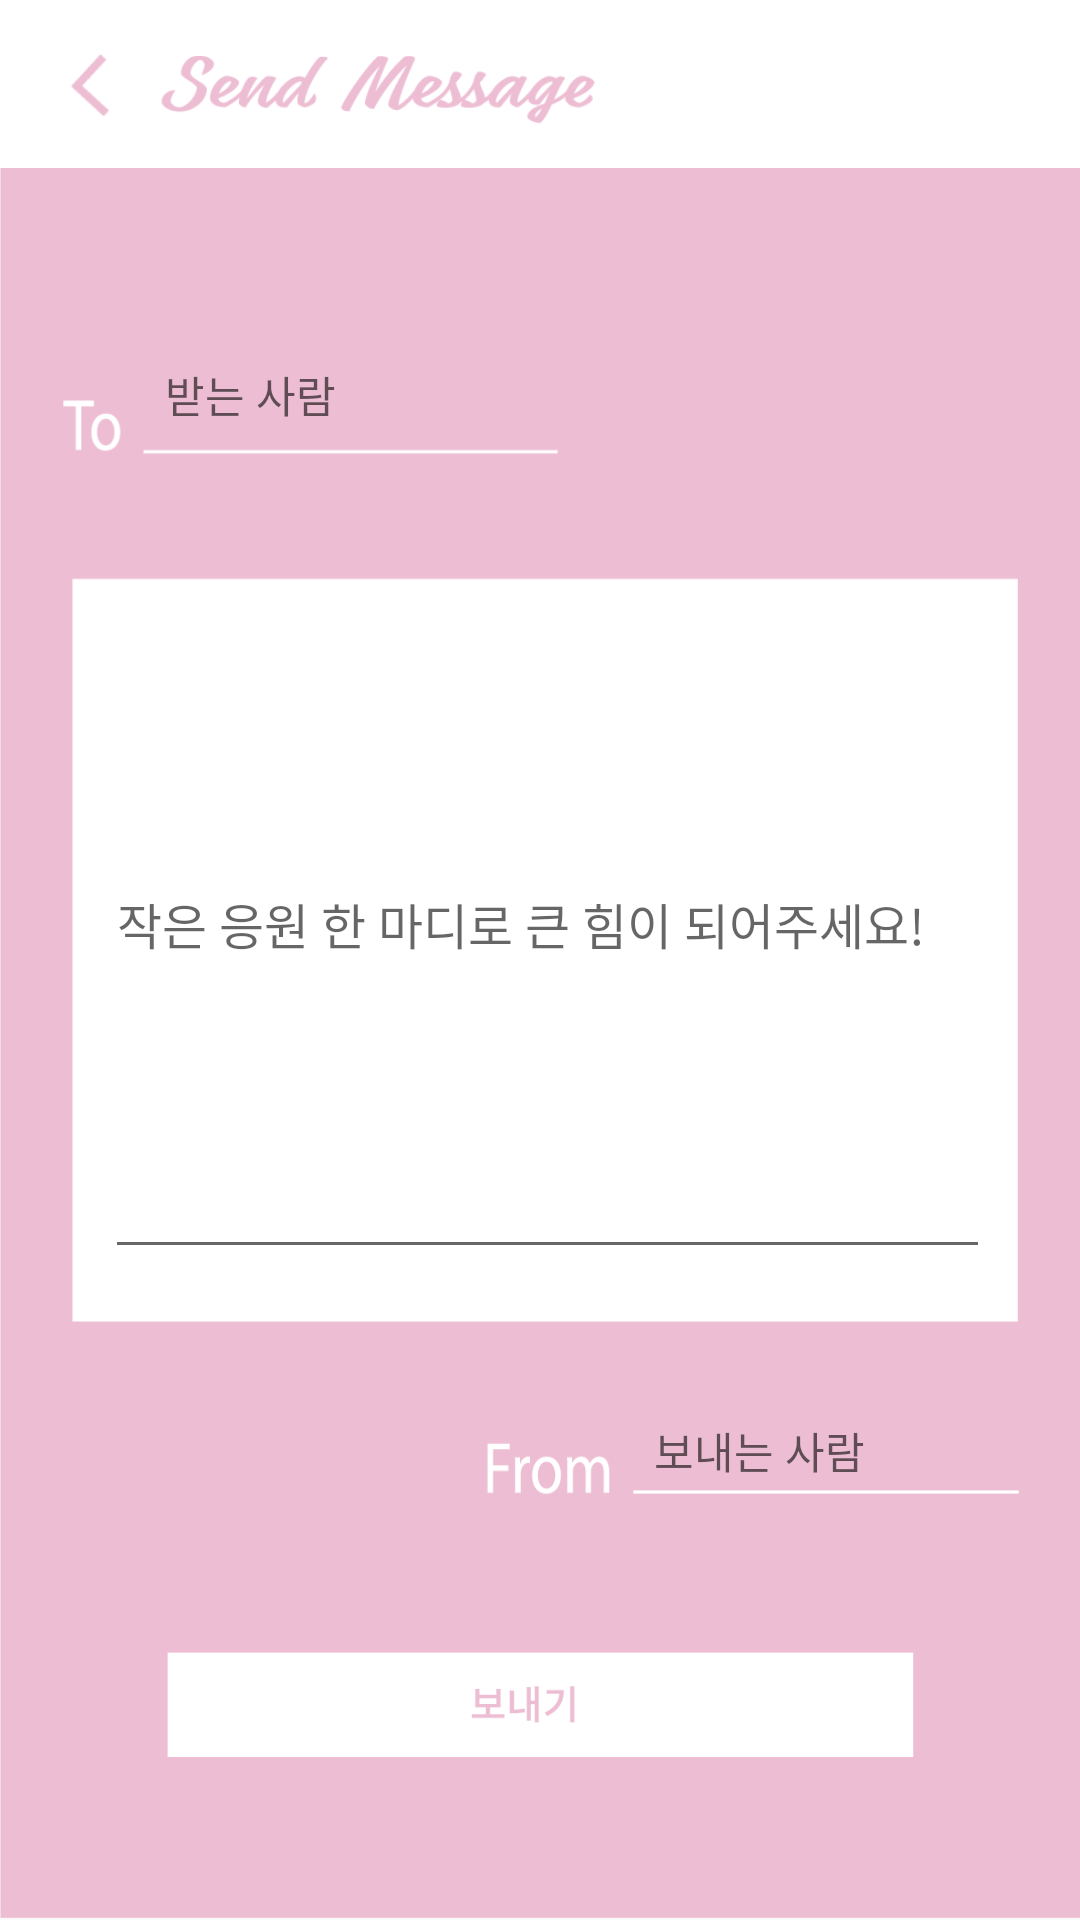

Where to tap for icons on this 1080w x 1920h app screen, as (x,y):
back: (90,85)
